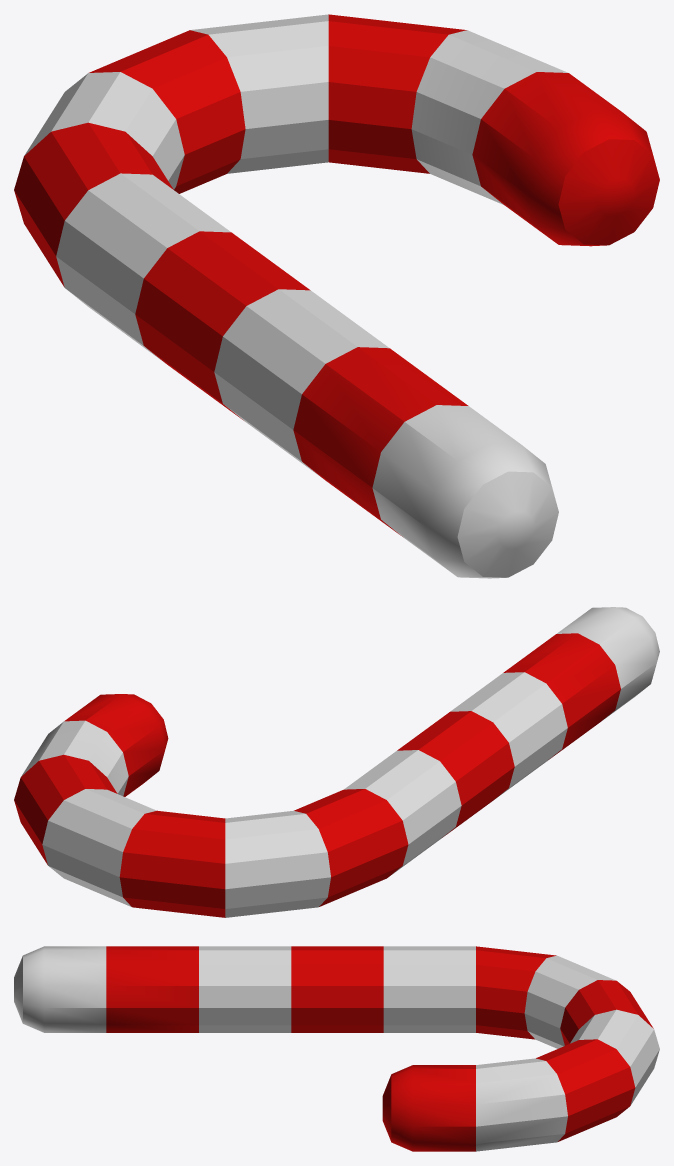
File: Candycane.fbx
3 renders of one model, top to bottom at view 1: azimuth 30°, elevation 25°; view 2: azimuth 150°, elevation 25°; view 3: azimuth 270°, elevation 25°, orthographic. The views are drawn at different scales.
Parts seen in each view (by area): view 1: Candycane; view 2: Candycane; view 3: Candycane.
Boxes of the visible parts, box(x1,y1,x2,y2) form: Candycane: box(14, 14, 659, 578); Candycane: box(14, 607, 659, 917); Candycane: box(14, 946, 659, 1151).
Size of the model in its own units: 30.35 by 7.17 by 53.32.
